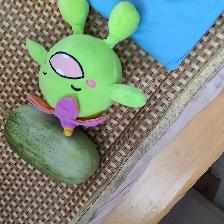gua: (11, 114, 92, 175)
